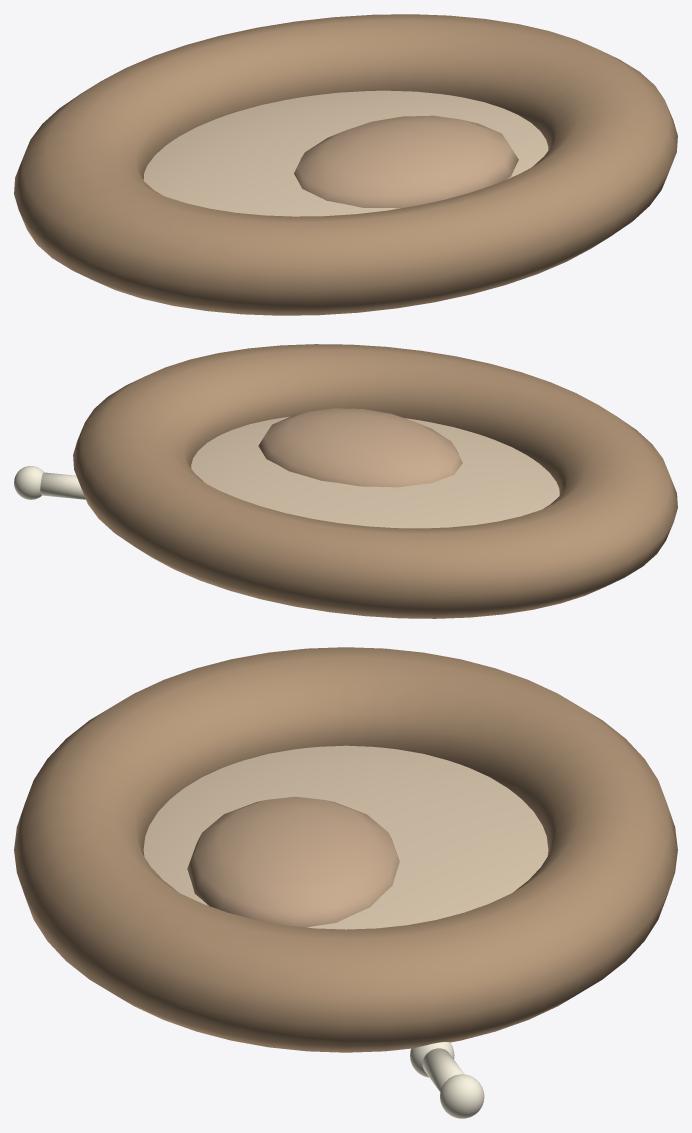
File: dogbed.glb
3 views of the same model, one above another, from view 1: azimuth 30°, elevation 25°; view 2: azimuth 150°, elevation 25°; view 3: azimuth 270°, elevation 25° (orthographic). The views are drawn at different scales.
Visible parts, largest first — view 1: BedRim, BedBase, BedPillow; view 2: BedRim, BedBase, BedPillow, BoneShaft, BoneEnd_0.05; view 3: BedRim, BedBase, BedPillow, BoneEnd_0.05, BoneShaft.
Part boxes in pixels (left/top/right/bottom): BedRim: left=14, top=14, right=677, bottom=315; BedBase: left=143, top=90, right=548, bottom=216; BedPillow: left=294, top=115, right=518, bottom=208; BedRim: left=73, top=344, right=677, bottom=618; BedBase: left=191, top=416, right=559, bottom=528; BedPillow: left=258, top=408, right=462, bottom=487; BoneShaft: left=40, top=472, right=85, bottom=499; BoneEnd_0.05: left=14, top=466, right=43, bottom=499; BedRim: left=14, top=647, right=677, bottom=1052; BedBase: left=143, top=745, right=548, bottom=929; BedPillow: left=187, top=796, right=399, bottom=927; BoneEnd_0.05: left=440, top=1074, right=484, bottom=1118; BoneShaft: left=422, top=1048, right=464, bottom=1091.
Bounding box in the file's own units: 0.8798 × 0.1485 × 0.656.
